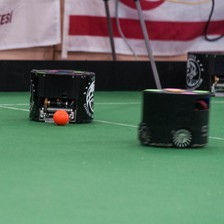ball: (51, 107, 70, 127)
robot: (135, 85, 212, 152), (26, 65, 95, 125), (184, 49, 224, 98)
